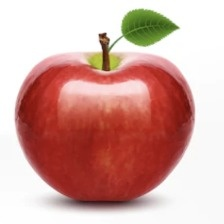apple: (30, 1, 169, 179)
